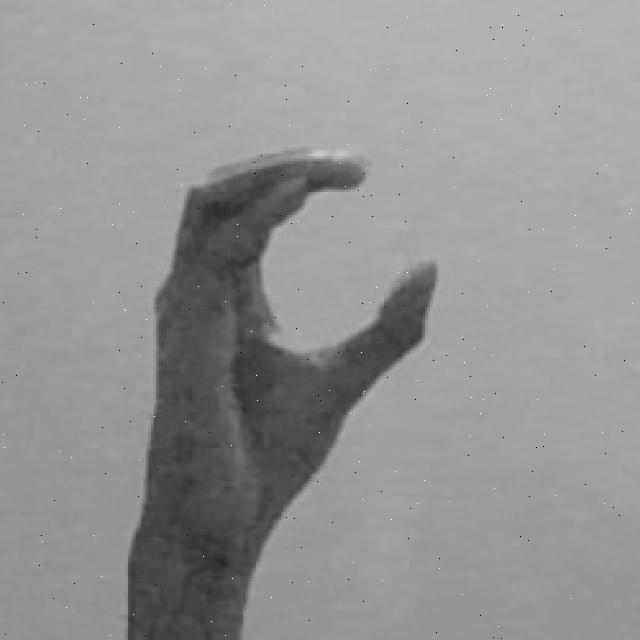C: (133, 143, 438, 640)
